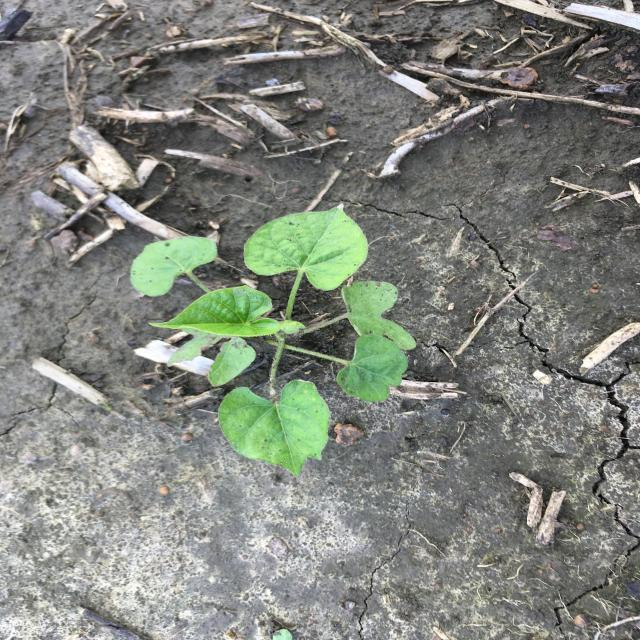MorningGlory: (128, 200, 422, 479)
